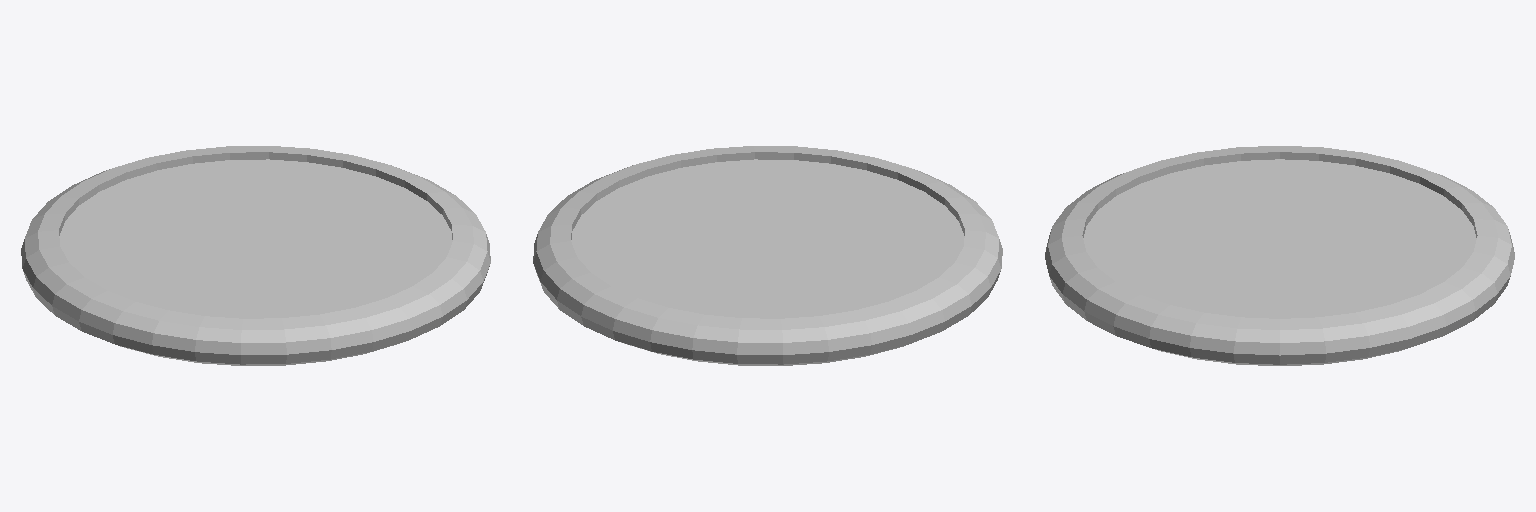
File: piece.obj
3 views of the same model, side by side, from view 1: azimuth 30°, elevation 25°; view 2: azimuth 150°, elevation 25°; view 3: azimuth 270°, elevation 25° (orthographic).
Visible parts, largest first — view 1: Cylinder_Cylinder.001; view 2: Cylinder_Cylinder.001; view 3: Cylinder_Cylinder.001.
Part boxes in pixels (left/top/right/bottom): Cylinder_Cylinder.001: left=21, top=146, right=490, bottom=365; Cylinder_Cylinder.001: left=533, top=146, right=1002, bottom=365; Cylinder_Cylinder.001: left=1045, top=146, right=1514, bottom=365.
Bounding box in the file's own units: 2 × 0.1922 × 2.